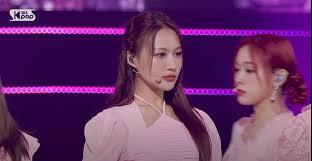earphone: (275, 73, 283, 83), (127, 56, 135, 64)
